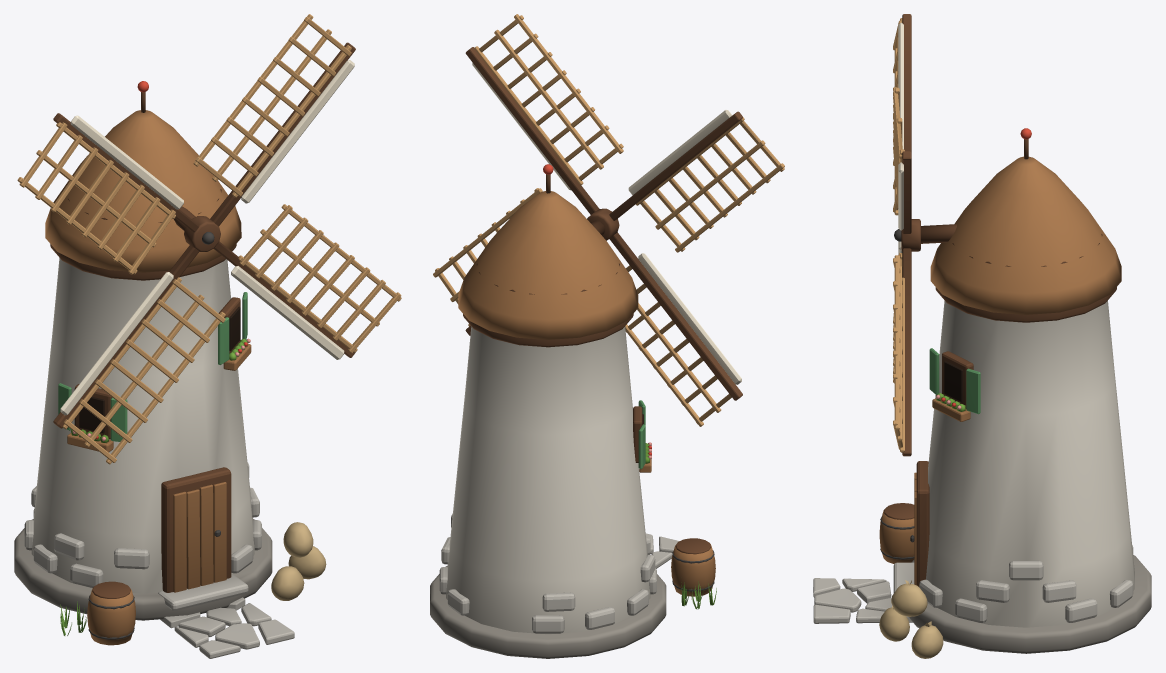
File: moulin.glb
The picture shows the model from 3 angles, left to right: view 1: azimuth 30°, elevation 25°; view 2: azimuth 150°, elevation 25°; view 3: azimuth 270°, elevation 25°; orthographic projection. The views are drawn at different scales.
Parts seen in each view (by area): view 1: moulin:enduit, moulin:bois, moulin:ailes:bois-clair, moulin:pierre, moulin:ailes:toile-creme, moulin:bois-sombre, moulin:ailes:bois-sombre, moulin:pierre-sombre, moulin:jute, moulin:peinture-verte, moulin:ombre; view 2: moulin:enduit, moulin:bois, moulin:ailes:bois-clair, moulin:pierre-sombre, moulin:ailes:bois-sombre, moulin:pierre, moulin:ailes:toile-creme, moulin:bois-sombre; view 3: moulin:enduit, moulin:bois, moulin:pierre, moulin:pierre-sombre, moulin:bois-sombre, moulin:ailes:bois-sombre, moulin:ailes:bois-clair, moulin:jute, moulin:peinture-verte, moulin:ailes:toile-creme, moulin:ombre.
Boxes of the visible parts, left/top/right/bottom form: moulin:enduit: left=31, top=258, right=254, bottom=593; moulin:bois: left=45, top=110, right=251, bottom=645; moulin:ailes:bois-clair: left=17, top=14, right=401, bottom=464; moulin:pierre: left=24, top=462, right=294, bottom=658; moulin:ailes:toile-creme: left=60, top=60, right=354, bottom=415; moulin:bois-sombre: left=50, top=92, right=240, bottom=598; moulin:ailes:bois-sombre: left=53, top=42, right=355, bottom=428; moulin:pierre-sombre: left=14, top=519, right=272, bottom=620; moulin:jute: left=271, top=522, right=326, bottom=600; moulin:peinture-verte: left=58, top=292, right=247, bottom=441; moulin:ombre: left=79, top=306, right=240, bottom=433; moulin:enduit: left=446, top=326, right=650, bottom=634; moulin:bois: left=458, top=191, right=715, bottom=596; moulin:ailes:bois-clair: left=433, top=14, right=784, bottom=426; moulin:pierre-sombre: left=430, top=566, right=666, bottom=658; moulin:ailes:bois-sombre: left=465, top=47, right=742, bottom=400; moulin:pierre: left=439, top=513, right=679, bottom=633; moulin:ailes:toile-creme: left=472, top=62, right=741, bottom=384; moulin:bois-sombre: left=463, top=174, right=711, bottom=554; moulin:enduit: left=926, top=300, right=1134, bottom=627; moulin:bois: left=879, top=156, right=1121, bottom=585; moulin:pierre: left=813, top=544, right=1133, bottom=623; moulin:pierre-sombre: left=909, top=555, right=1151, bottom=653; moulin:bois-sombre: left=884, top=139, right=1116, bottom=586; moulin:ailes:bois-sombre: left=901, top=14, right=920, bottom=456; moulin:ailes:bois-clair: left=893, top=18, right=904, bottom=452; moulin:jute: left=879, top=580, right=943, bottom=658; moulin:peinture-verte: left=929, top=348, right=980, bottom=414; moulin:ailes:toile-creme: left=898, top=22, right=903, bottom=254; moulin:ombre: left=944, top=361, right=962, bottom=402.
Size of the model in its own units: 5.23 by 7.56 by 4.12.
